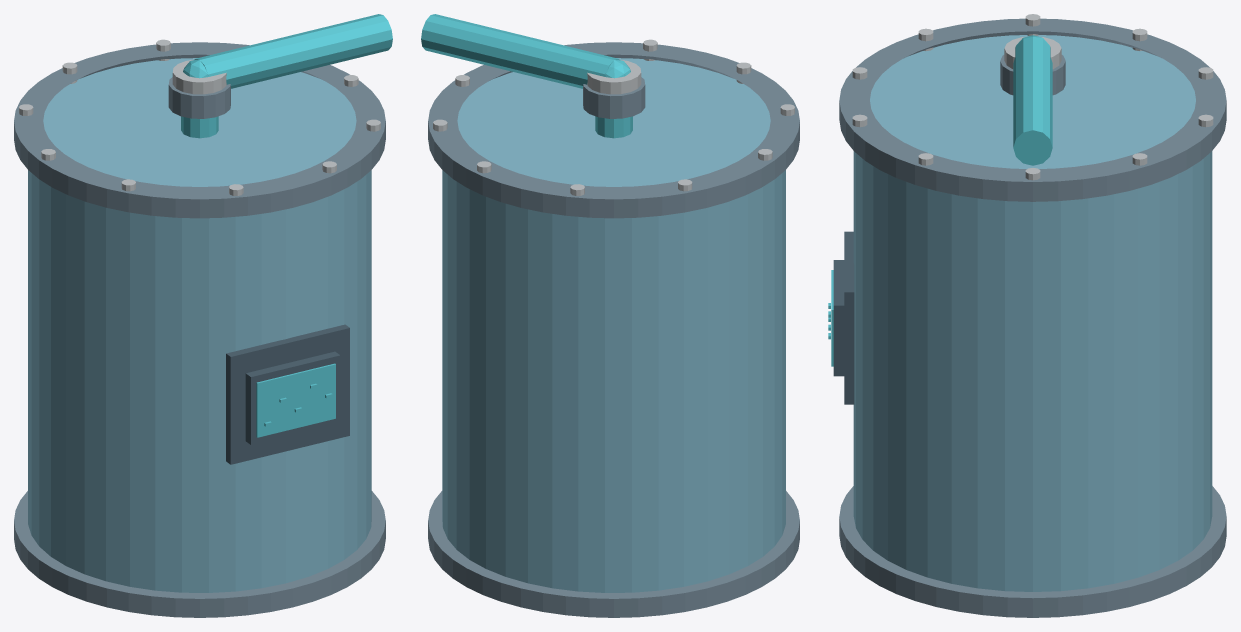
Rendered from 14_L76_VirtualCopperElectrolyteReservoir.glb.
3 renders of one model, left to right at view 1: azimuth 30°, elevation 25°; view 2: azimuth 150°, elevation 25°; view 3: azimuth 270°, elevation 25°, orthographic. The views are drawn at different scales.
Parts seen in each view (by area): view 1: VirtualCopperElectrolyteReservoir_Node_0000, VirtualCopperElectrolyteReservoir_Node_0003, VirtualCopperElectrolyteReservoir_Node_0002, VirtualCopperElectrolyteReservoir_Node_0015, VirtualCopperElectrolyteReservoir_Node_0024, VirtualCopperElectrolyteReservoir_Node_0017, VirtualCopperElectrolyteReservoir_Node_0016, VirtualCopperElectrolyteReservoir_Node_0014, VirtualCopperElectrolyteReservoir_Node_0026, VirtualCopperElectrolyteReservoir_Node_0023; view 2: VirtualCopperElectrolyteReservoir_Node_0000, VirtualCopperElectrolyteReservoir_Node_0003, VirtualCopperElectrolyteReservoir_Node_0002, VirtualCopperElectrolyteReservoir_Node_0024, VirtualCopperElectrolyteReservoir_Node_0014, VirtualCopperElectrolyteReservoir_Node_0026, VirtualCopperElectrolyteReservoir_Node_0023; view 3: VirtualCopperElectrolyteReservoir_Node_0000, VirtualCopperElectrolyteReservoir_Node_0003, VirtualCopperElectrolyteReservoir_Node_0002, VirtualCopperElectrolyteReservoir_Node_0024, VirtualCopperElectrolyteReservoir_Node_0015, VirtualCopperElectrolyteReservoir_Node_0016, VirtualCopperElectrolyteReservoir_Node_0014, VirtualCopperElectrolyteReservoir_Node_0026.
Part boxes in pixels (x1,y1,x2,y2): VirtualCopperElectrolyteReservoir_Node_0000: [28, 58, 371, 592]; VirtualCopperElectrolyteReservoir_Node_0003: [14, 42, 385, 218]; VirtualCopperElectrolyteReservoir_Node_0002: [14, 491, 385, 617]; VirtualCopperElectrolyteReservoir_Node_0015: [226, 324, 349, 464]; VirtualCopperElectrolyteReservoir_Node_0024: [194, 14, 392, 88]; VirtualCopperElectrolyteReservoir_Node_0017: [256, 363, 335, 437]; VirtualCopperElectrolyteReservoir_Node_0016: [245, 351, 340, 444]; VirtualCopperElectrolyteReservoir_Node_0014: [168, 77, 230, 118]; VirtualCopperElectrolyteReservoir_Node_0026: [172, 60, 226, 94]; VirtualCopperElectrolyteReservoir_Node_0023: [181, 116, 218, 138]; VirtualCopperElectrolyteReservoir_Node_0000: [442, 58, 785, 592]; VirtualCopperElectrolyteReservoir_Node_0003: [428, 42, 799, 218]; VirtualCopperElectrolyteReservoir_Node_0002: [428, 491, 799, 617]; VirtualCopperElectrolyteReservoir_Node_0024: [421, 14, 619, 88]; VirtualCopperElectrolyteReservoir_Node_0014: [583, 77, 645, 118]; VirtualCopperElectrolyteReservoir_Node_0026: [587, 60, 641, 94]; VirtualCopperElectrolyteReservoir_Node_0023: [595, 116, 632, 138]; VirtualCopperElectrolyteReservoir_Node_0000: [853, 35, 1212, 591]; VirtualCopperElectrolyteReservoir_Node_0003: [839, 18, 1226, 201]; VirtualCopperElectrolyteReservoir_Node_0002: [839, 486, 1226, 617]; VirtualCopperElectrolyteReservoir_Node_0024: [1013, 37, 1052, 165]; VirtualCopperElectrolyteReservoir_Node_0015: [844, 231, 854, 404]; VirtualCopperElectrolyteReservoir_Node_0016: [833, 260, 844, 376]; VirtualCopperElectrolyteReservoir_Node_0014: [1000, 55, 1065, 95]; VirtualCopperElectrolyteReservoir_Node_0026: [1004, 36, 1061, 69].
Bounding box in the file's own units: 1.9 × 2.52 × 1.82.
